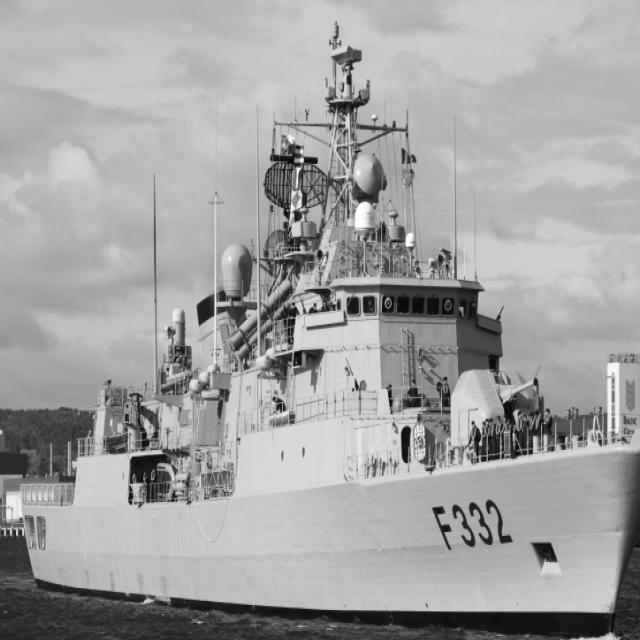Fragata: (16, 27, 640, 640)
